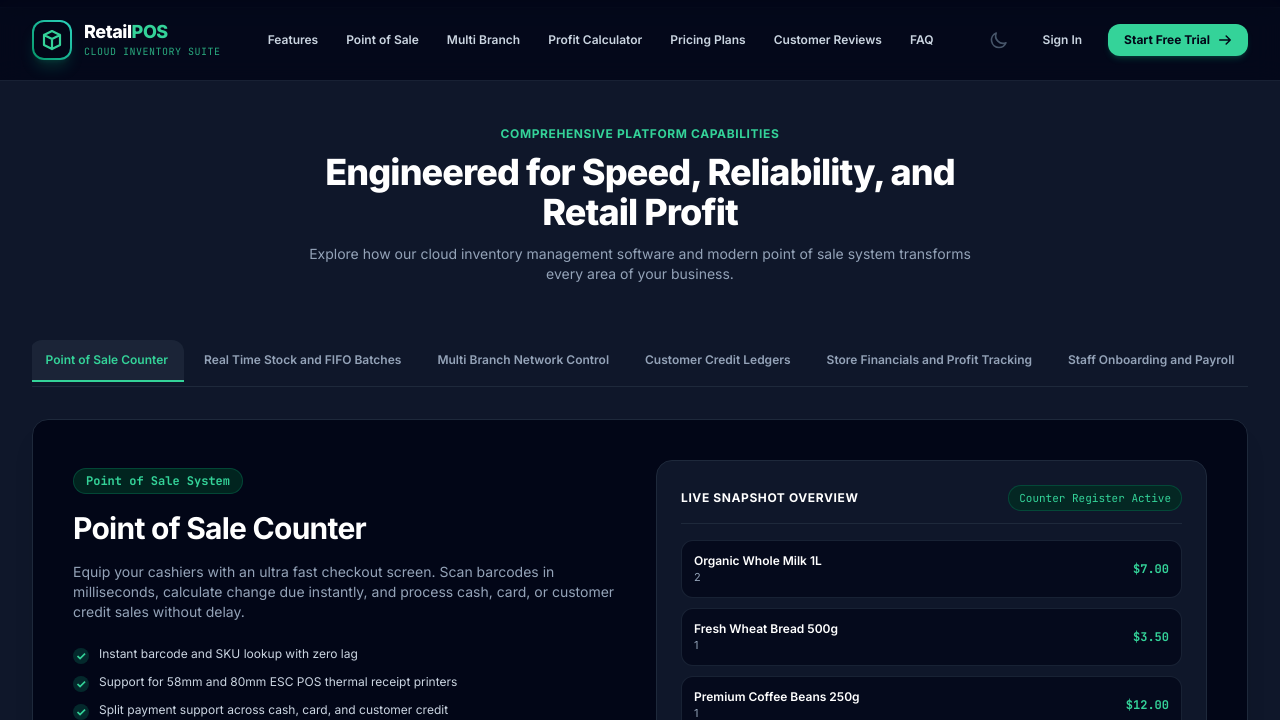
Test: LandingPage Component and SEO › switches feature deep dive tabs
(page scrolled)
# Click Multi Branch Network Control tab
Click the button "Multi Branch Network Control".
click(523, 360)  # box [421,340,625,382]
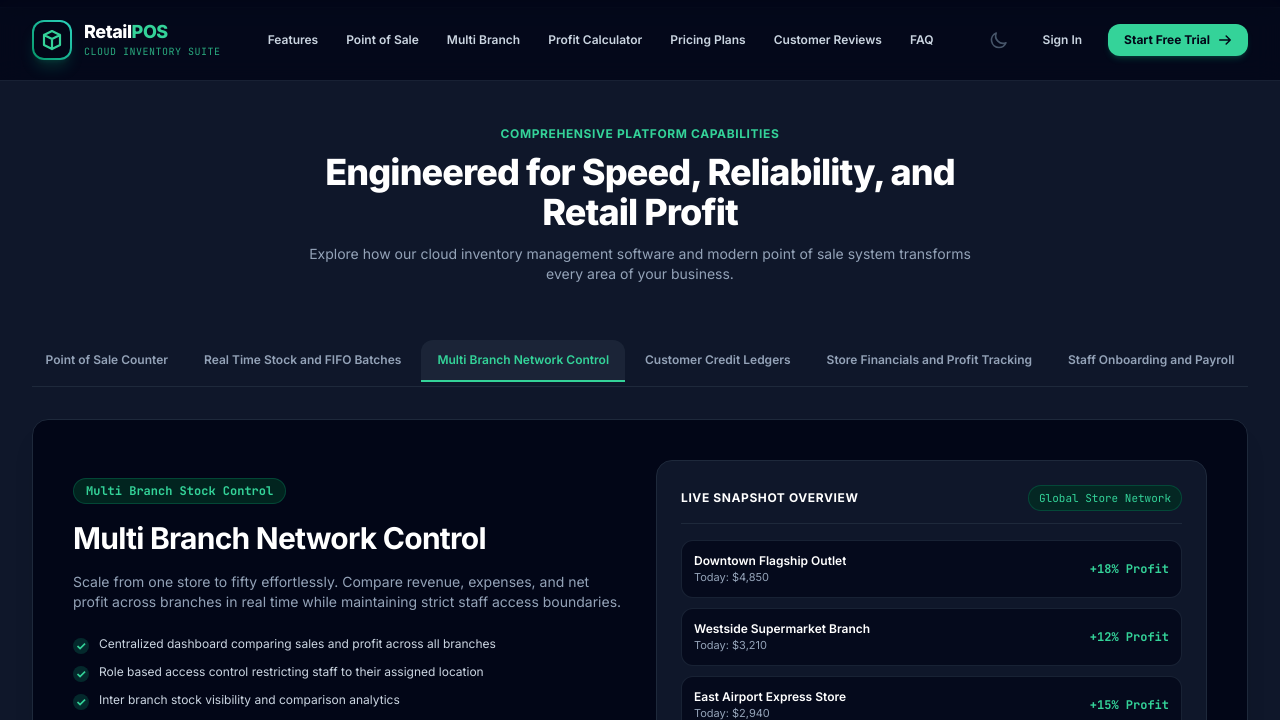
Check: the text "Scale from one store to fifty effortlessly" is shown, box [73,573,621,610]
# Click Customer Credit Ledgers tab
Click the button "Customer Credit Ledgers".
click(718, 360)  # box [629,340,807,382]
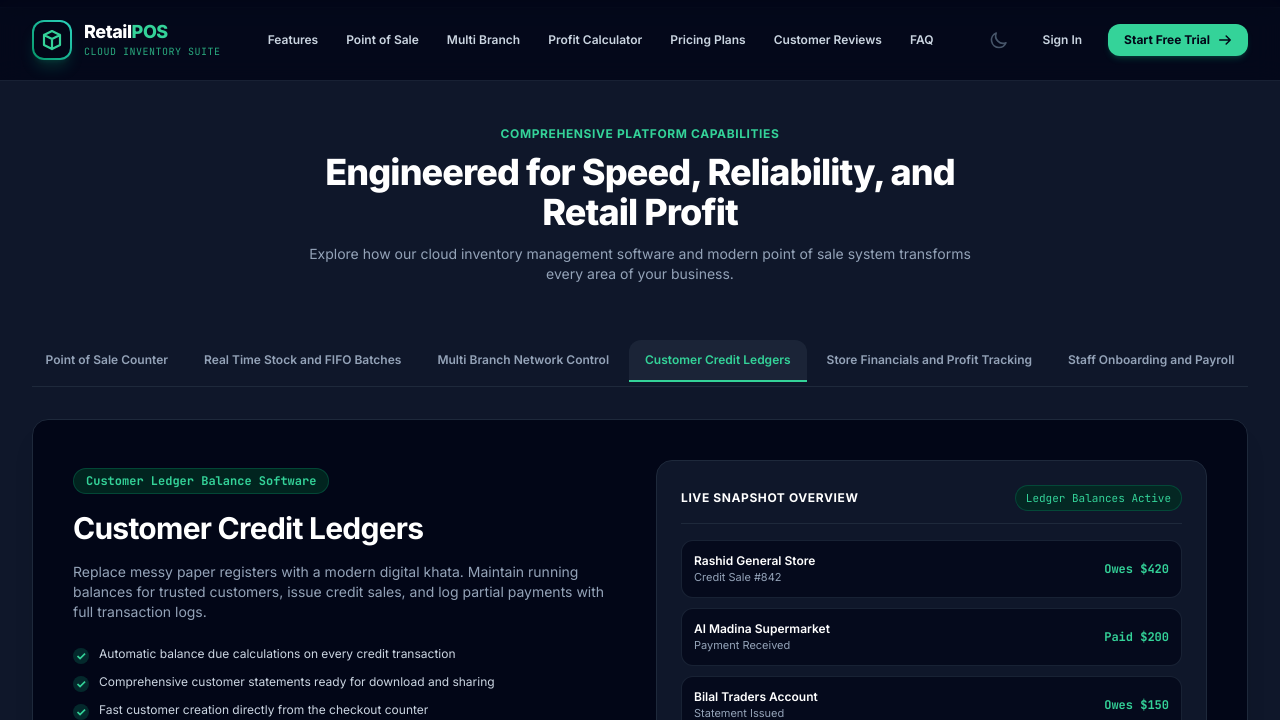
Check: the text "Replace messy paper registers with a modern digital khata" is shown, box [73,563,604,620]
